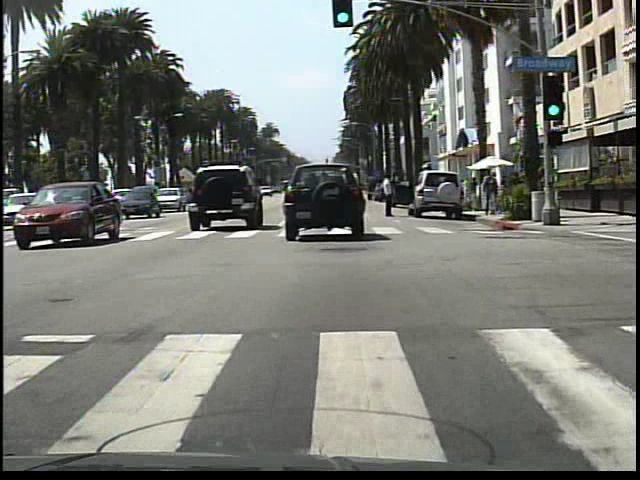person: (378, 168, 400, 222)
